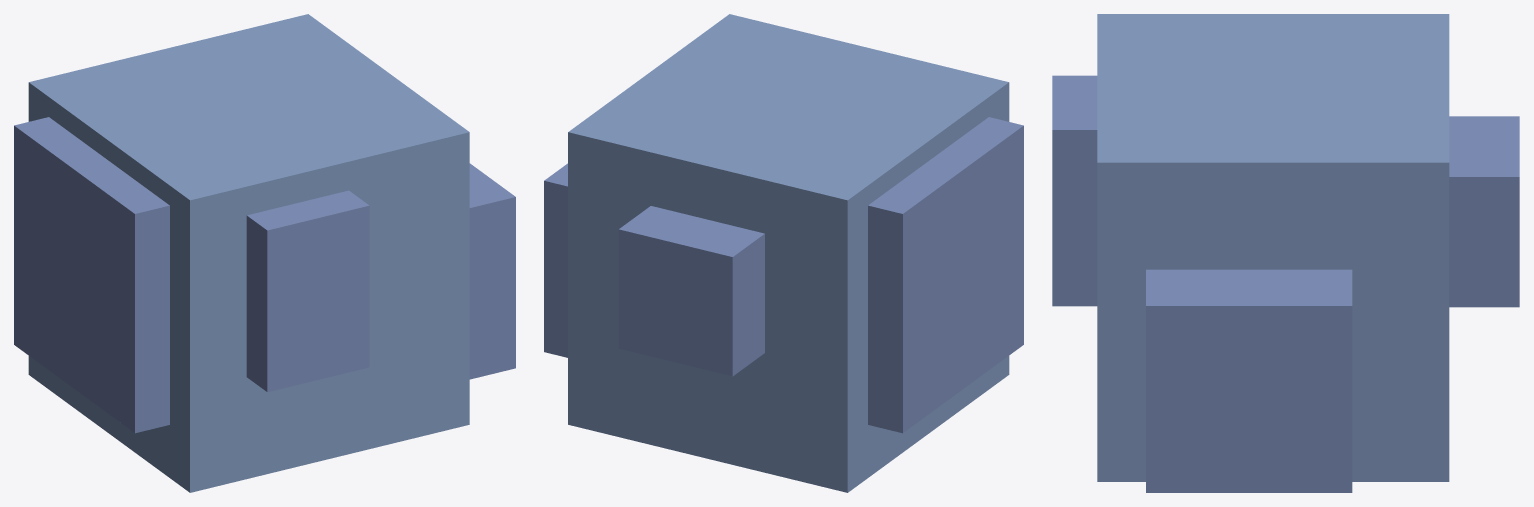
File: lowTree.obj
3 renders of one model, left to right at view 1: azimuth 30°, elevation 25°; view 2: azimuth 150°, elevation 25°; view 3: azimuth 270°, elevation 25°, orthographic. The views are drawn at different scales.
Visible parts, largest first — view 1: Cube.001; view 2: Cube.001; view 3: Cube.001.
Boxes of the visible parts, x1,y1,x2,y2 form: Cube.001: [14, 14, 515, 492]; Cube.001: [544, 14, 1023, 492]; Cube.001: [1052, 14, 1519, 492].
Bounding box in the file's own units: 1.37 × 1.15 × 1.33.
Materials: 1 (1 with a texture image).
